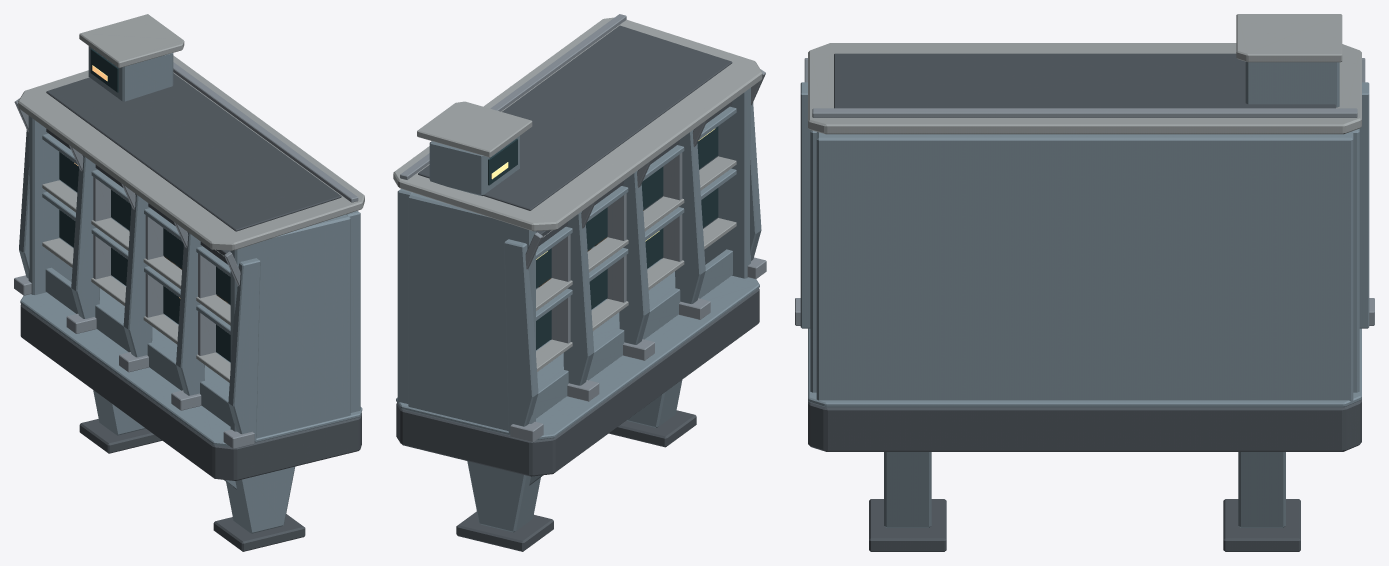
Rendered from NA_CivicFacade_A_LOD1.fbx.
The picture shows the model from 3 angles, left to right: view 1: azimuth 30°, elevation 25°; view 2: azimuth 150°, elevation 25°; view 3: azimuth 270°, elevation 25°; orthographic projection. The views are drawn at different scales.
Visible parts, largest first — view 1: NA_CivicFacade_A_LOD1; view 2: NA_CivicFacade_A_LOD1; view 3: NA_CivicFacade_A_LOD1.
Part boxes in pixels (left/top/right/bottom): NA_CivicFacade_A_LOD1: left=14, top=14, right=364, bottom=551; NA_CivicFacade_A_LOD1: left=393, top=14, right=766, bottom=551; NA_CivicFacade_A_LOD1: left=795, top=14, right=1374, bottom=551.
Bounding box in the file's own units: 10.76 × 26.12 × 26.8.
